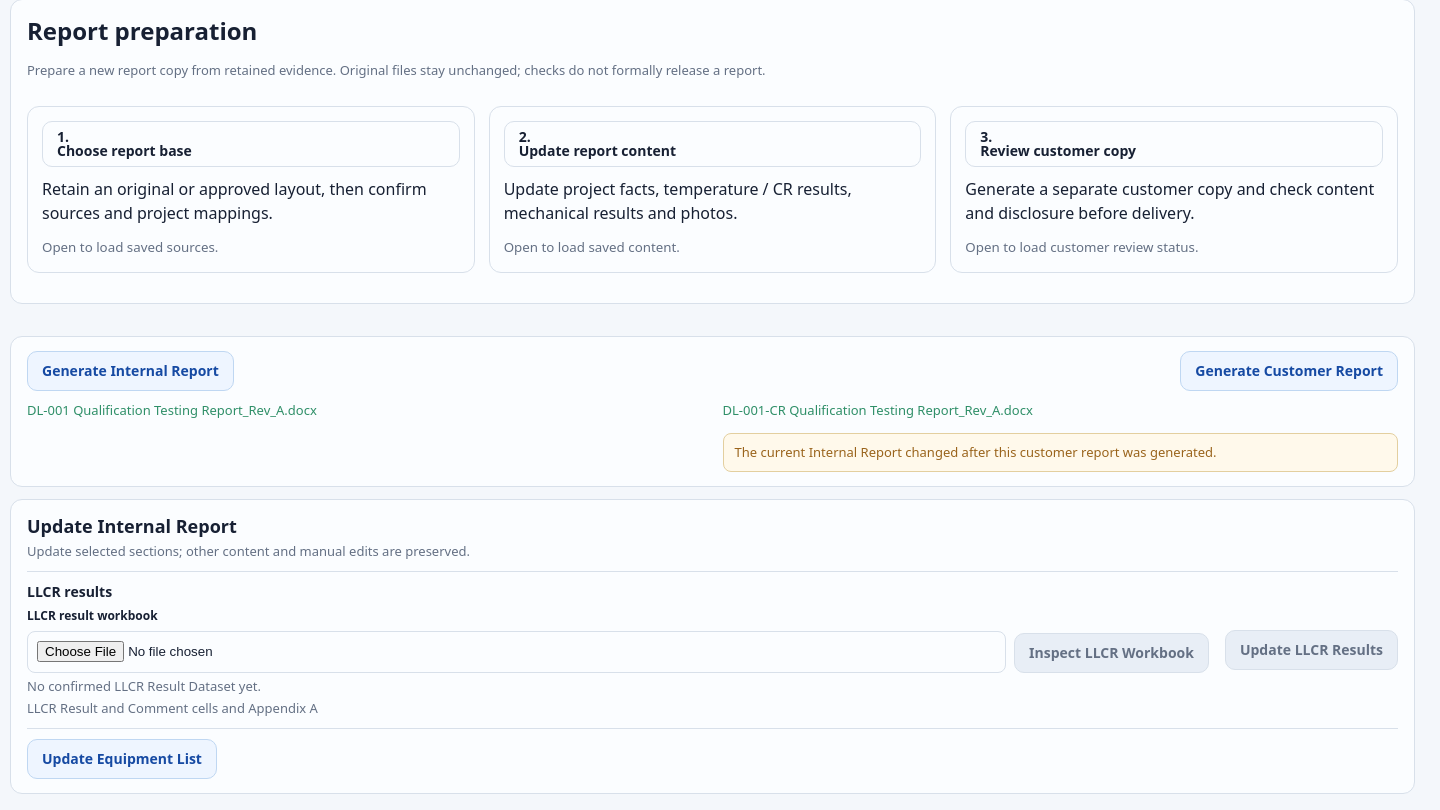
Scenario: ReportWorkspace › finishes a healthy equipment update without opening a completion dialog (changed=false)
The width and height of the screenshot is (1440, 810).
(page scrolled)
Click the button "Update Equipment List": [122, 759] box [27,739,217,779]
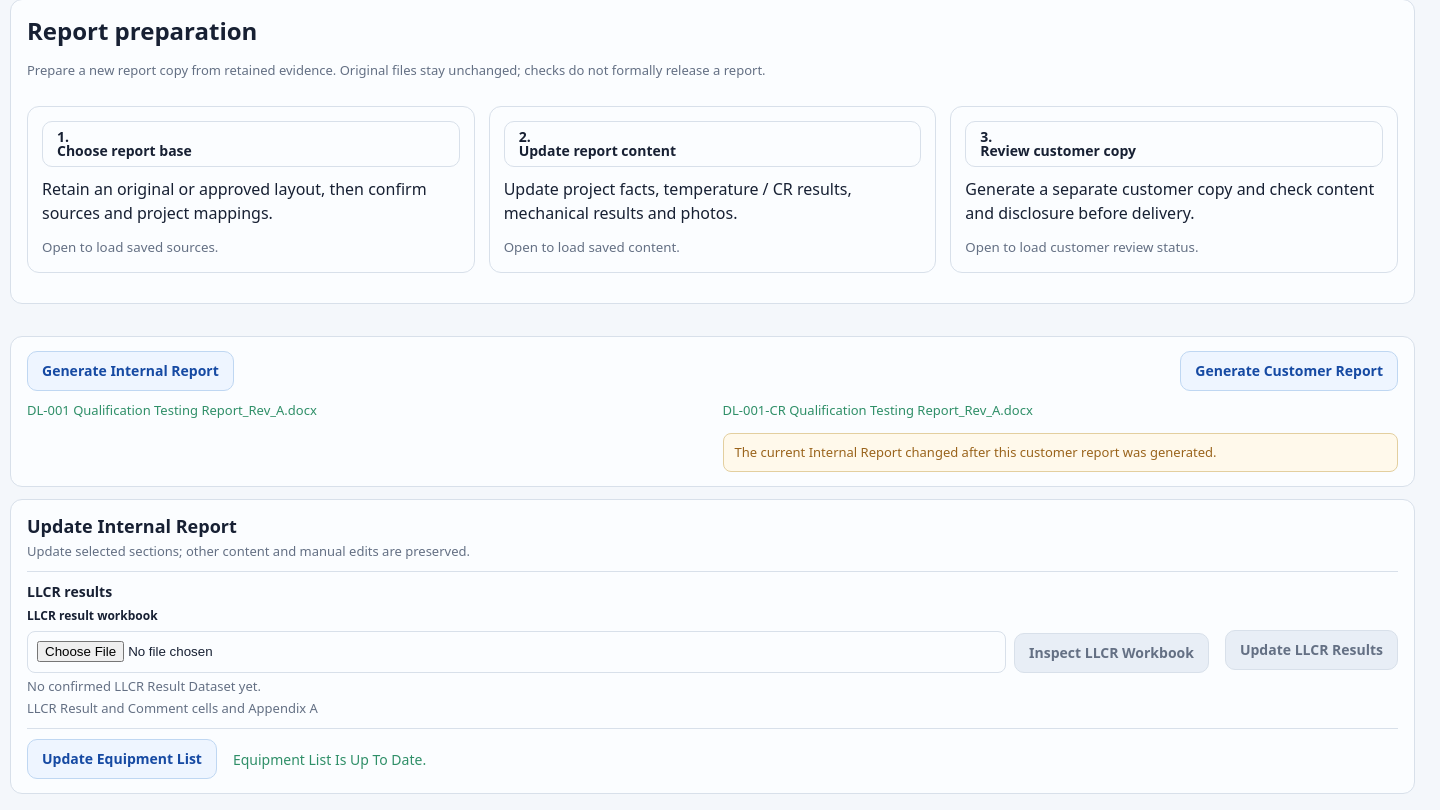
Result: the message named "Equipment List update status" reads "Equipment List Is Up To Date." at [233,750,426,769]
